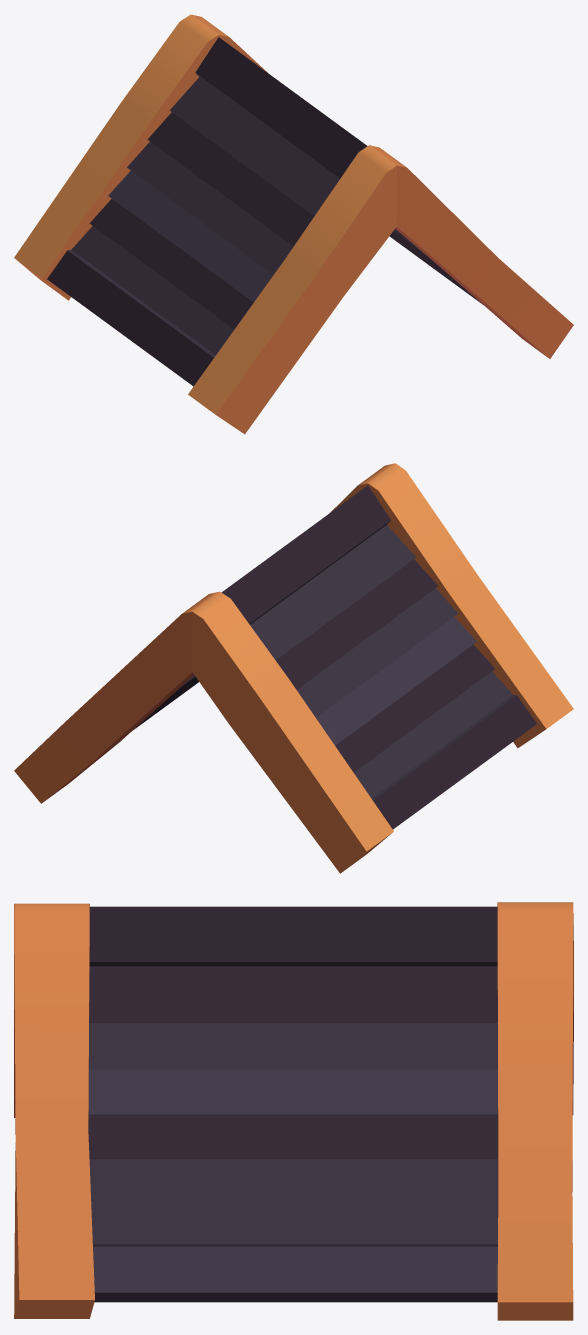
Rendered from Roof03_Black_Wood.glb.
The picture shows the model from 3 angles, top to bottom: view 1: azimuth 30°, elevation 25°; view 2: azimuth 150°, elevation 25°; view 3: azimuth 270°, elevation 25°; orthographic projection. The views are drawn at different scales.
Visible parts, largest first — view 1: Roof03_Black_Wood; view 2: Roof03_Black_Wood; view 3: Roof03_Black_Wood.
Part boxes in pixels (bbox=[...]): Roof03_Black_Wood: bbox=[14, 14, 573, 434]; Roof03_Black_Wood: bbox=[14, 463, 573, 873]; Roof03_Black_Wood: bbox=[14, 902, 573, 1320].
Size of the model in its own units: 2.41 by 1.48 by 2.38.
1 material, 1 textured.
